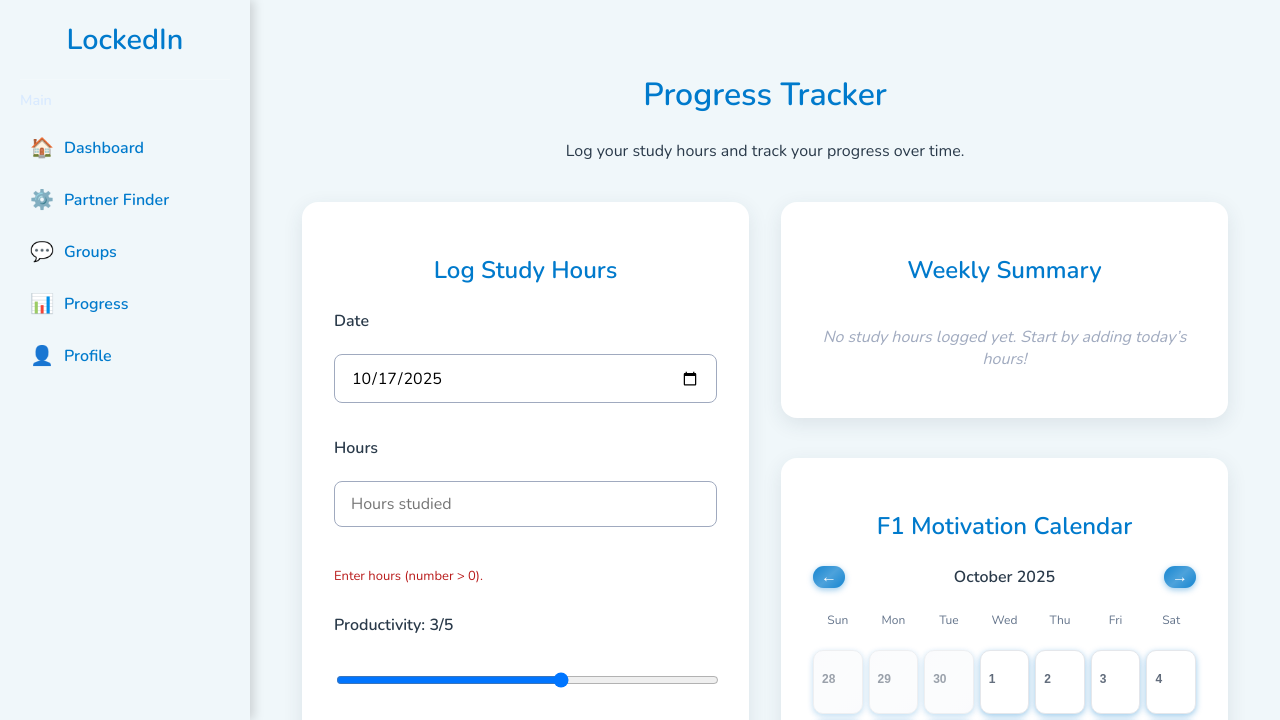
Test: Progress Tracker › prevents zero or invalid hours and keeps error helper visible
Type "abc" into the number field labelled "Hours".
click(526, 504); type("abc")  # box [334,481,717,527]
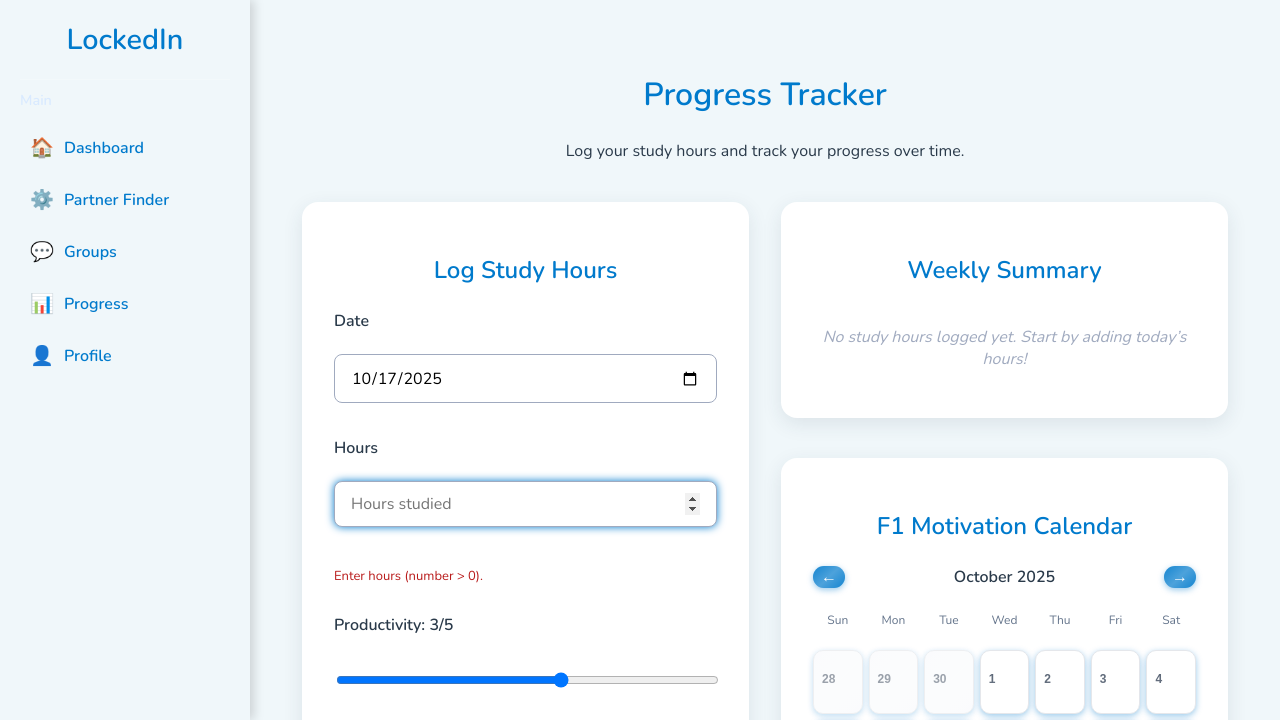
Expected: the text "Enter hours (number > 0)." is shown, [334,567,483,585]
Type "0" into the number field labelled "Hours".
click(526, 504); type("0")  # box [334,481,717,527]
(page scrolled)
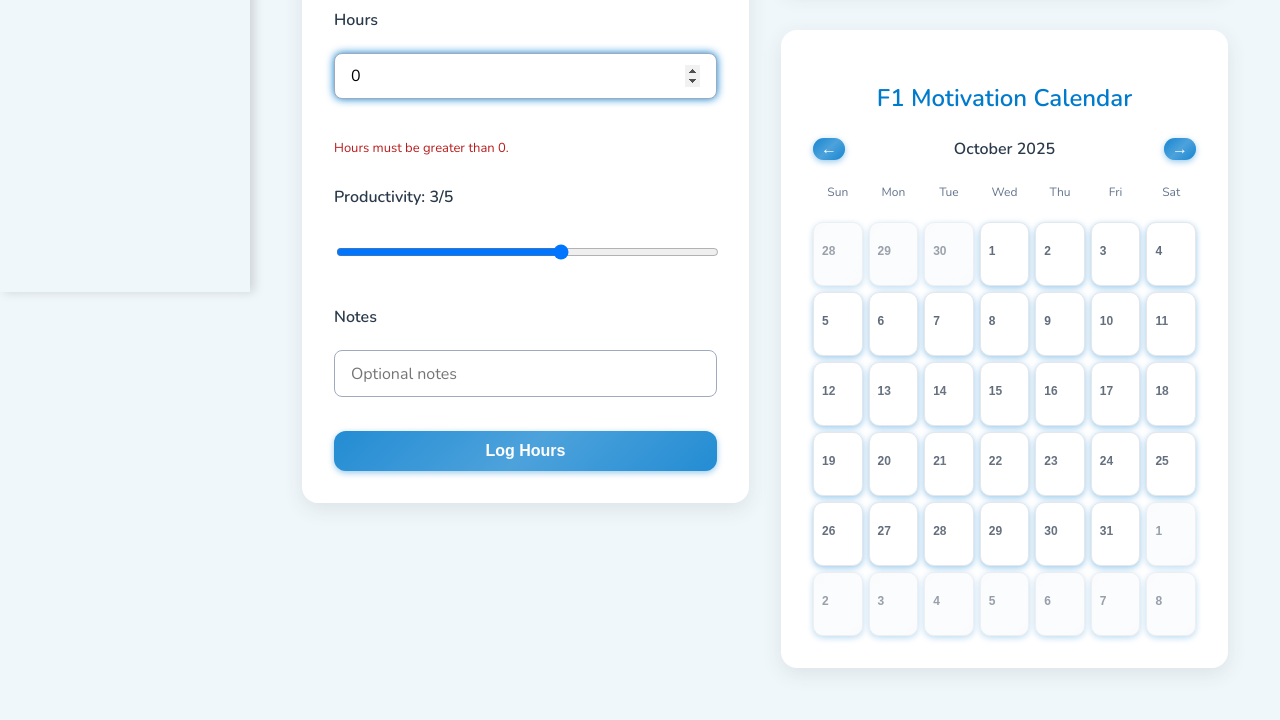
Expected: the button "Log Hours" is disabled, [334,431,717,471]
Result: the text "Hours must be greater than 0." is shown at [334,139,509,157]
